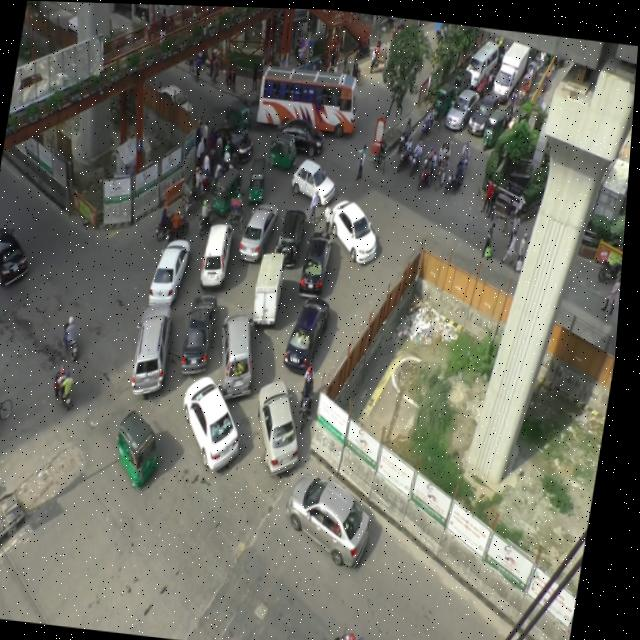cng: (116, 402, 173, 500), (209, 162, 246, 215), (222, 89, 256, 141), (482, 96, 514, 151), (266, 127, 302, 170), (430, 76, 460, 124), (248, 154, 272, 200), (451, 66, 473, 103)
rikshaw: (178, 172, 213, 215), (0, 380, 22, 447), (435, 134, 455, 188), (373, 34, 392, 70), (517, 69, 535, 102)
